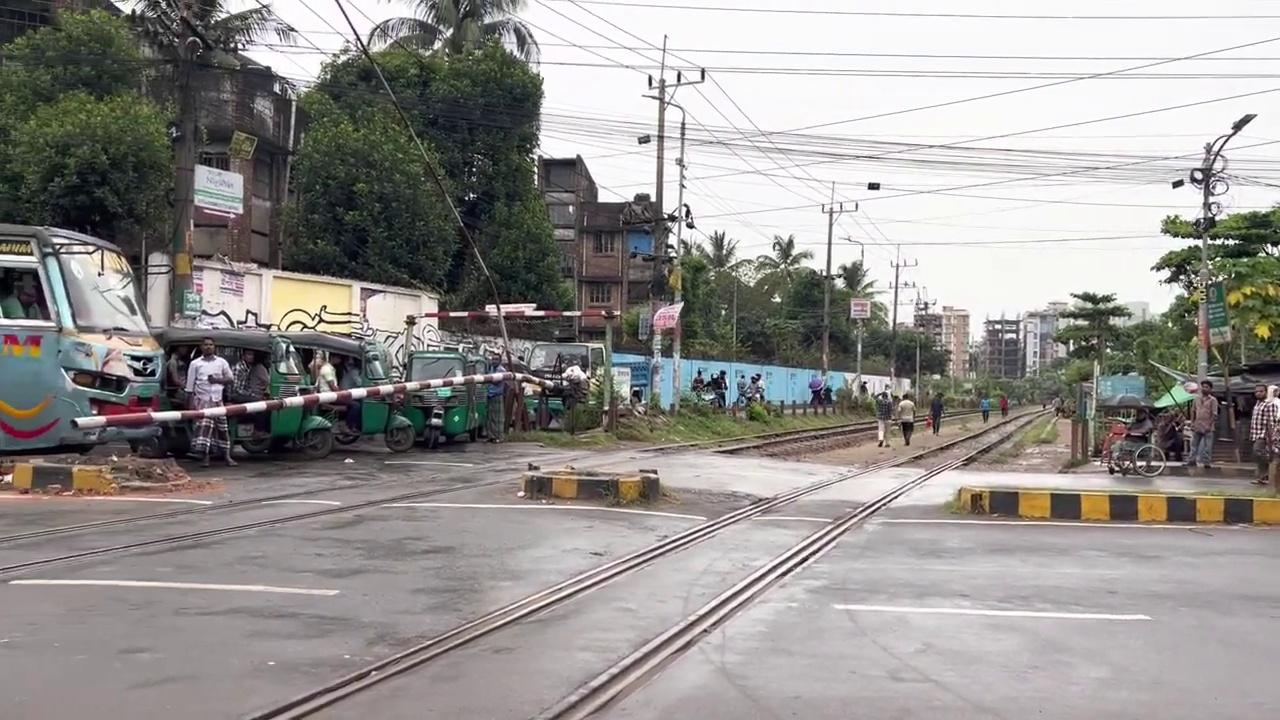Car: (955, 483, 1279, 525)
Fence: (184, 337, 238, 466)
Garbage: (1171, 112, 1258, 465), (640, 35, 705, 415), (819, 179, 880, 384)
Motorcycle: (302, 510, 832, 720)
Railroad-crossing: (0, 4, 176, 256), (1151, 203, 1279, 368)
Rickshaw: (0, 221, 176, 457)
